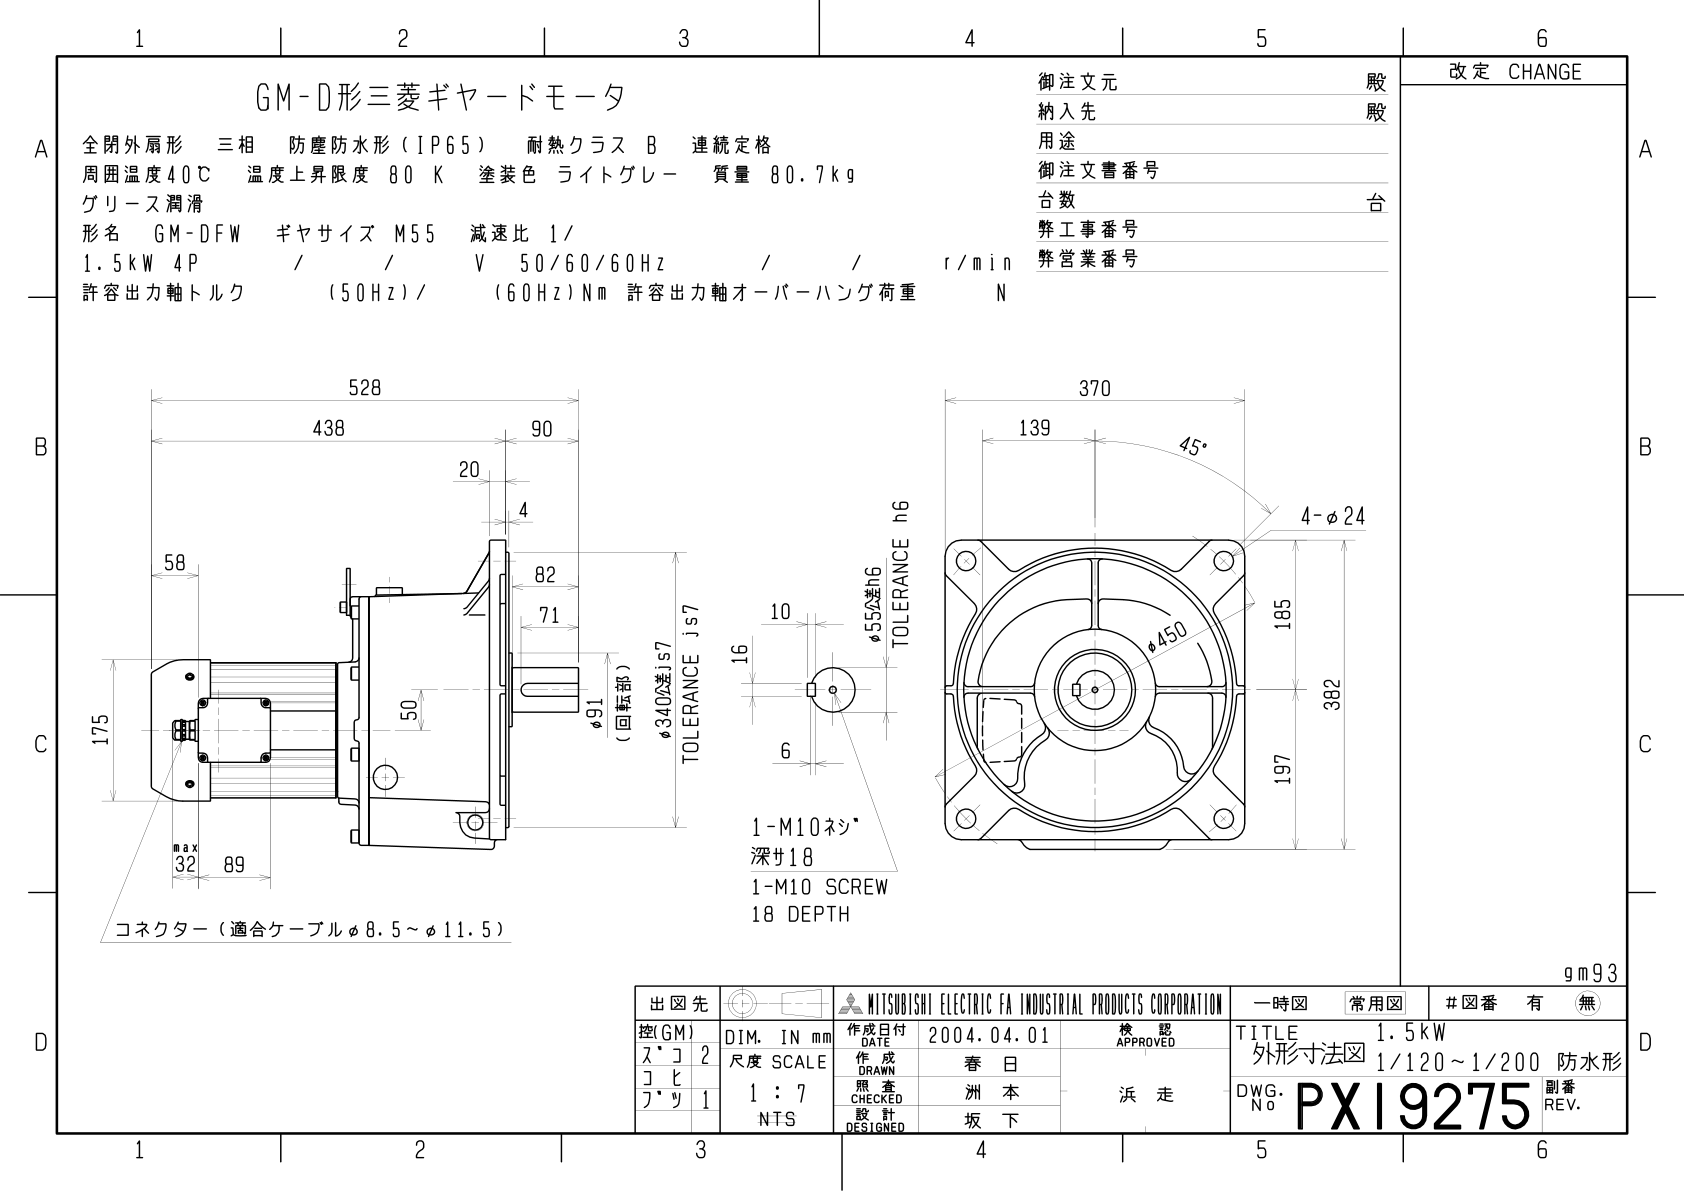GM_D_IP65_三相_フランジ: (67, 347, 1383, 951)
